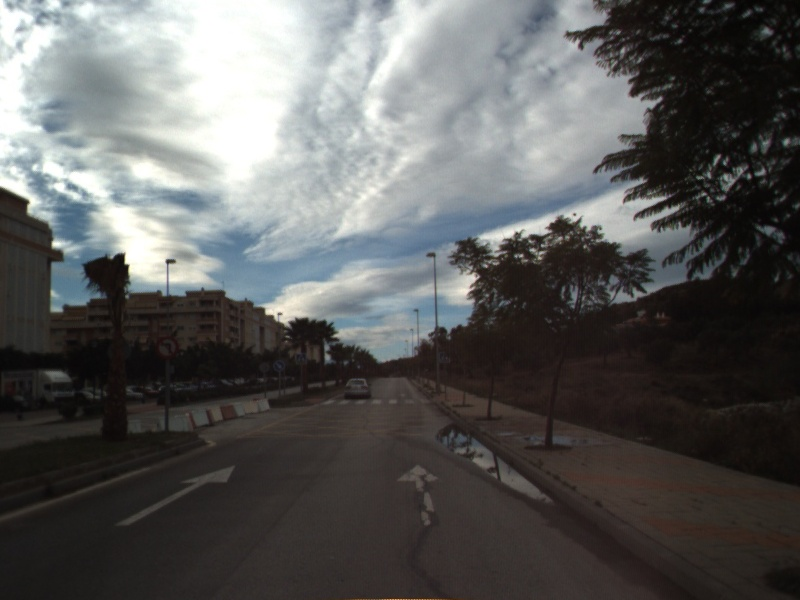STRAIGHT: (117, 465, 236, 525), (394, 462, 446, 528)
